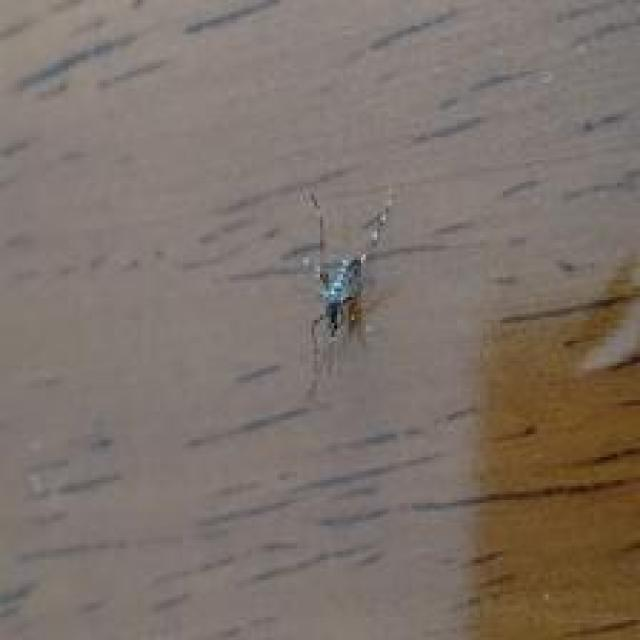Aedes albopictus: (300, 187, 394, 353)
